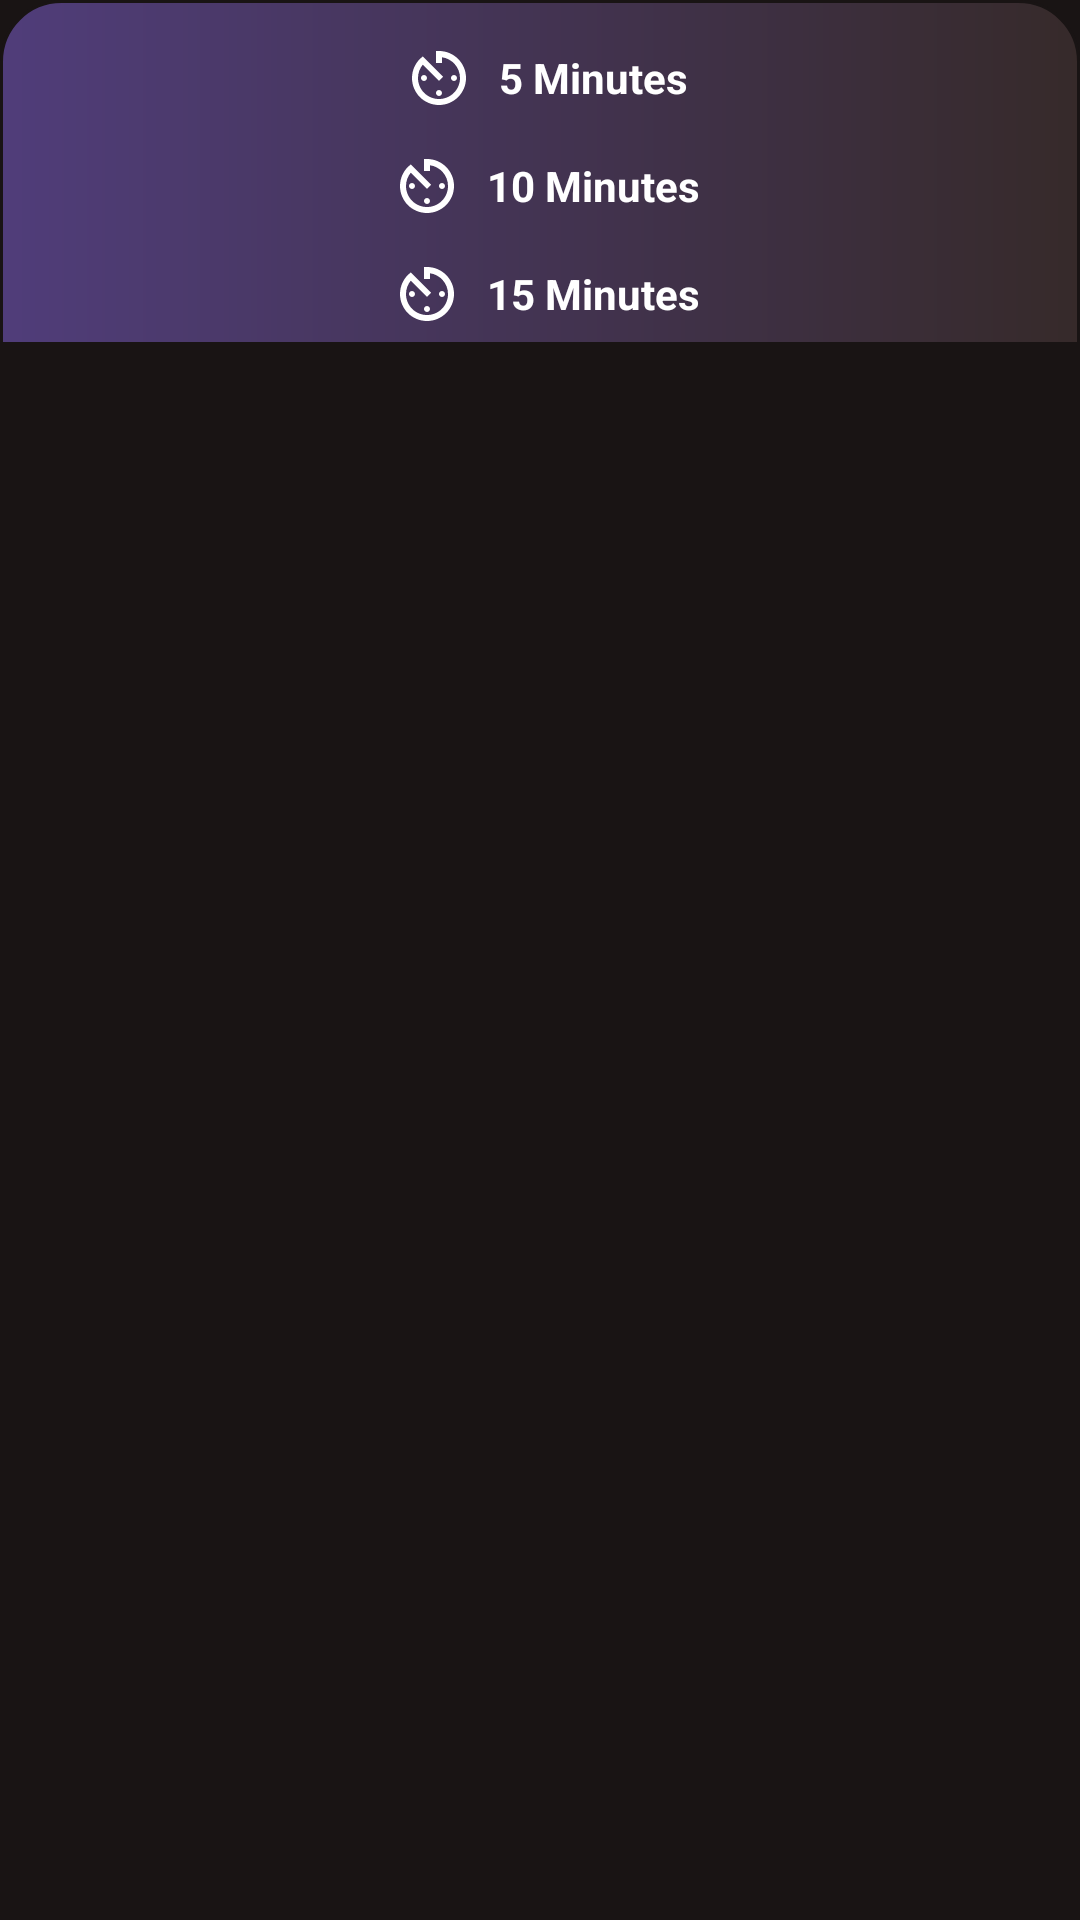

Where icons sit on this 1080×1920 app screen, as (x1=x1, y1=y1, x2=x2, y2=y2):
av timer: (x1=412, y1=51, x2=466, y2=105), (x1=400, y1=159, x2=454, y2=213), (x1=400, y1=267, x2=454, y2=321)
